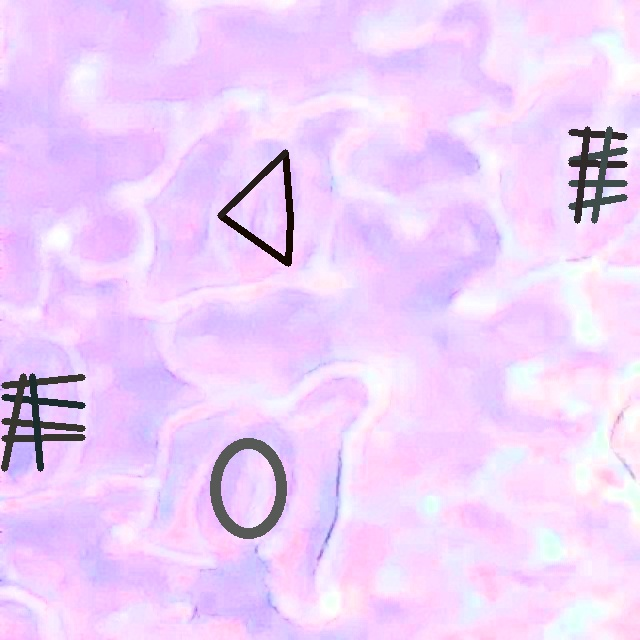open: (217, 149, 293, 266), (2, 373, 84, 470), (209, 438, 286, 537), (568, 126, 627, 223)
